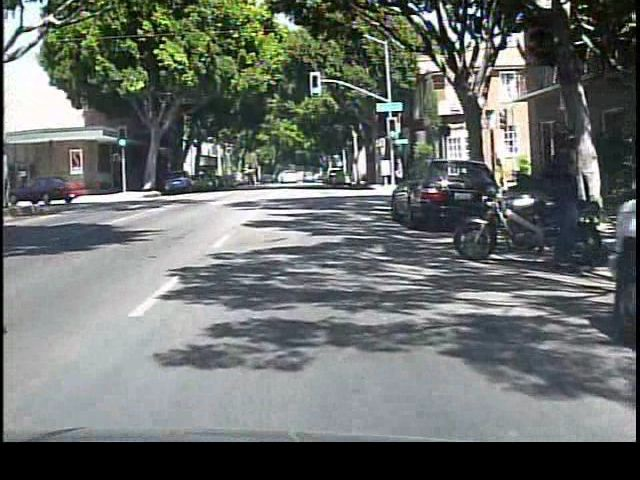person: (534, 123, 587, 282), (390, 155, 407, 191)
